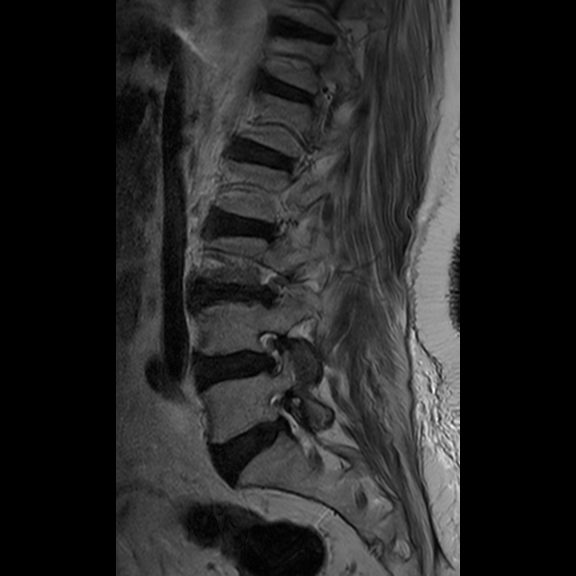RFS0: (244, 323, 296, 383)
